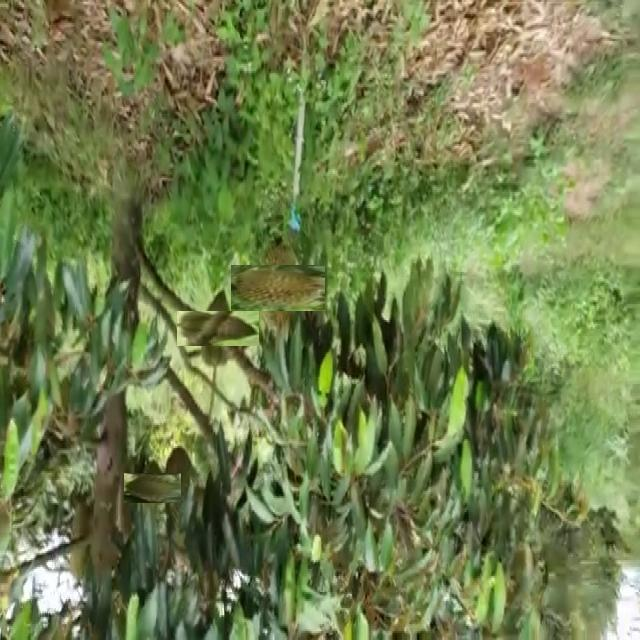durian: (243, 252, 313, 323), (188, 299, 248, 359), (164, 444, 198, 532), (130, 466, 174, 510)
